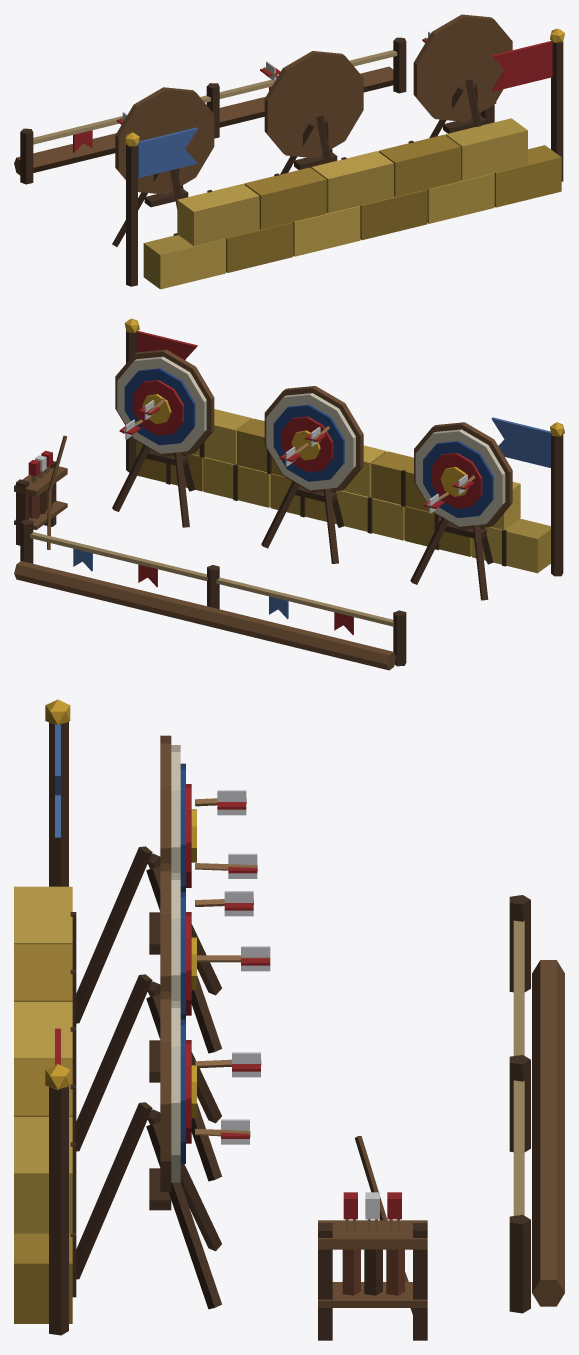
The model's file is Decor_KnightCastle_Archery.fbx.
3 renders of one model, top to bottom at view 1: azimuth 30°, elevation 25°; view 2: azimuth 150°, elevation 25°; view 3: azimuth 270°, elevation 25°, orthographic. The views are drawn at different scales.
Visible parts, largest first — view 1: Archery_Body; view 2: Archery_Body; view 3: Archery_Body.
Part boxes in pixels (box(x1,y1,x2,y2)): Archery_Body: box(14, 14, 564, 289); Archery_Body: box(14, 318, 564, 670); Archery_Body: box(14, 699, 564, 1340).
Size of the model in its own units: 23.1 by 7.9 by 14.1.
